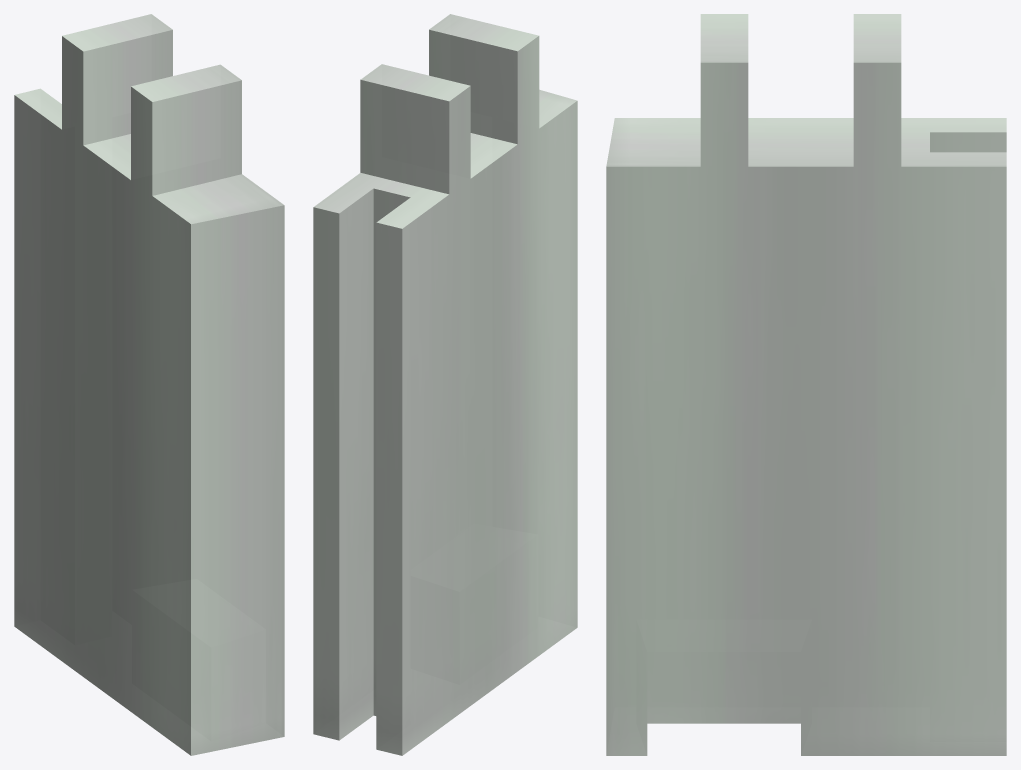
The model's file is original-33.obj.
3 renders of one model, left to right at view 1: azimuth 30°, elevation 25°; view 2: azimuth 150°, elevation 25°; view 3: azimuth 270°, elevation 25°, orthographic. The views are drawn at different scales.
Parts seen in each view (by area): view 1: Divider_End_Cap1/Divider_End_Cap/mesh76/mesh76-geometry#mesh76-g; view 2: Divider_End_Cap1/Divider_End_Cap/mesh76/mesh76-geometry#mesh76-g; view 3: Divider_End_Cap1/Divider_End_Cap/mesh76/mesh76-geometry#mesh76-g.
Part boxes in pixels (box(x1,y1,x2,y2)): Divider_End_Cap1/Divider_End_Cap/mesh76/mesh76-geometry#mesh76-g: box(14, 14, 284, 755); Divider_End_Cap1/Divider_End_Cap/mesh76/mesh76-geometry#mesh76-g: box(313, 14, 577, 755); Divider_End_Cap1/Divider_End_Cap/mesh76/mesh76-geometry#mesh76-g: box(606, 14, 1006, 755).
Size of the model in its own units: 0.0222 by 0.1482 by 0.0775.
